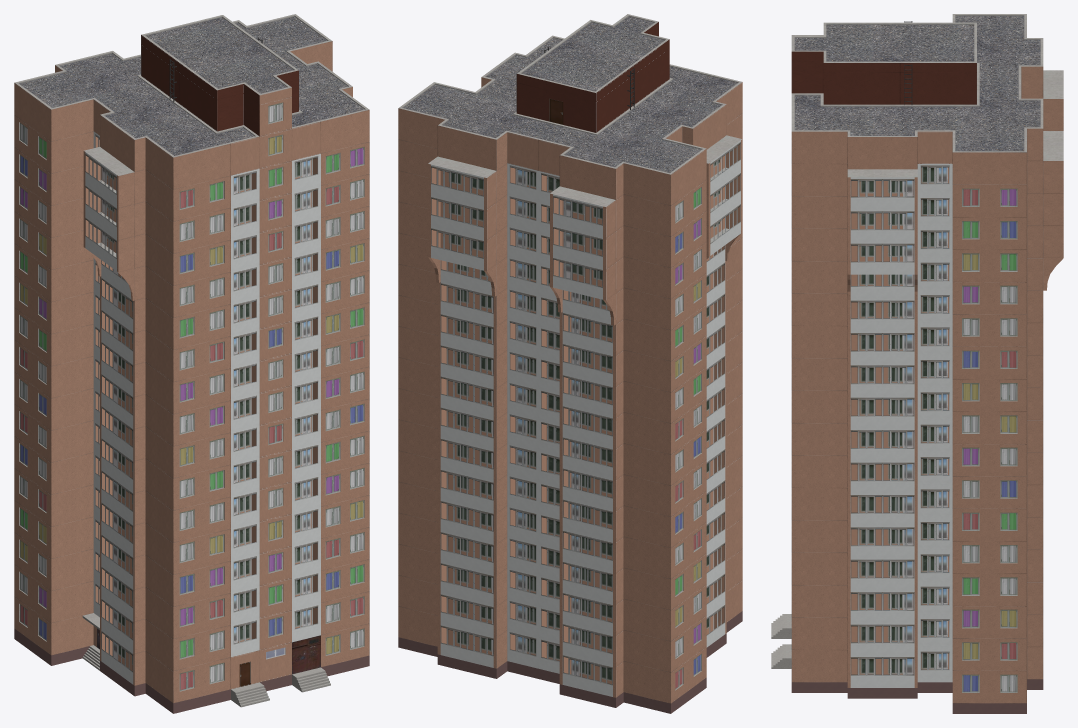
Rendered from tall_building.glb.
3 views of the same model, side by side, from view 1: azimuth 30°, elevation 25°; view 2: azimuth 150°, elevation 25°; view 3: azimuth 270°, elevation 25° (orthographic). The views are drawn at different scales.
Visible parts, largest first — view 1: Cube_0; view 2: Cube_0; view 3: Cube_0.
Part boxes in pixels (left/top/right/bottom): Cube_0: left=14, top=14, right=369, bottom=713; Cube_0: left=398, top=14, right=742, bottom=713; Cube_0: left=771, top=14, right=1063, bottom=713.
Bounding box in the file's own units: 30.6 × 62.12 × 27.32.
Materials: 3 (3 with a texture image).
